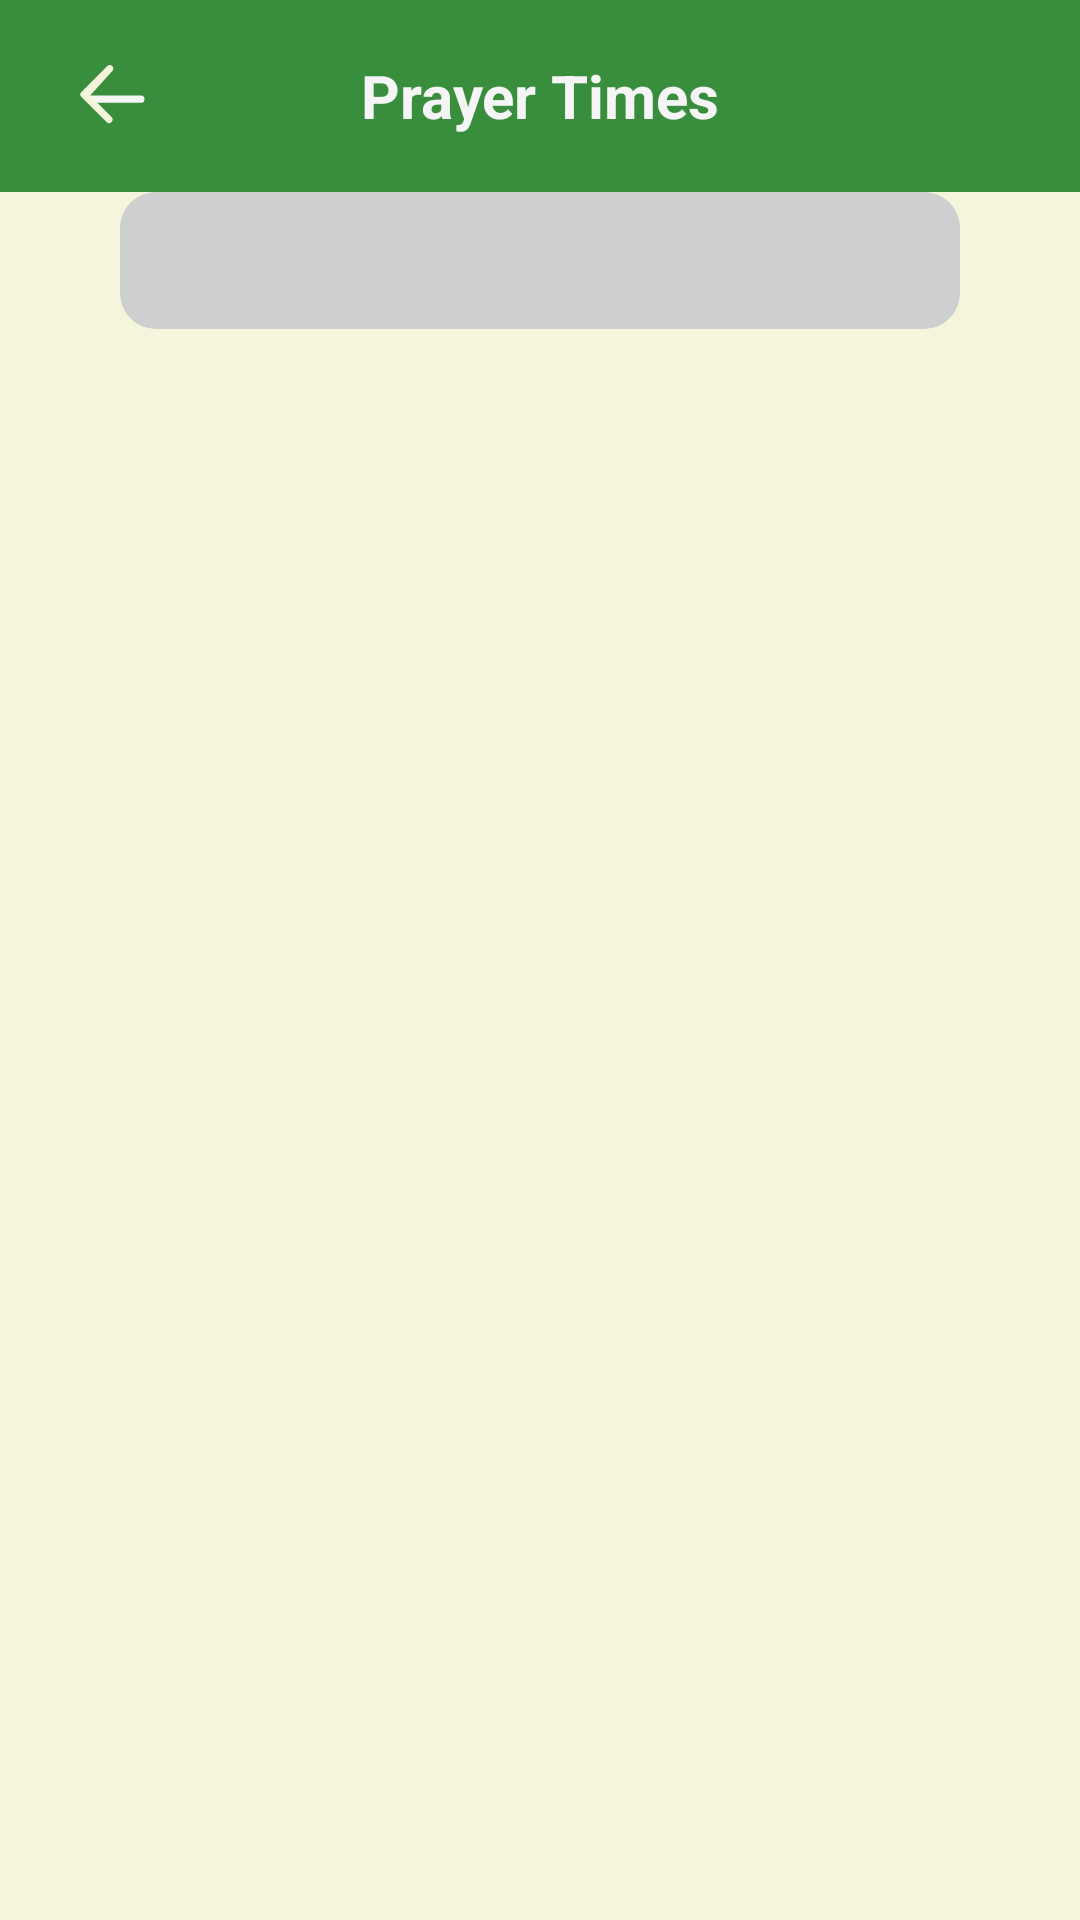

Where to tap for icons on this 1080 x 1920 app screen, as point (x, y):
Back: point (112, 94)
